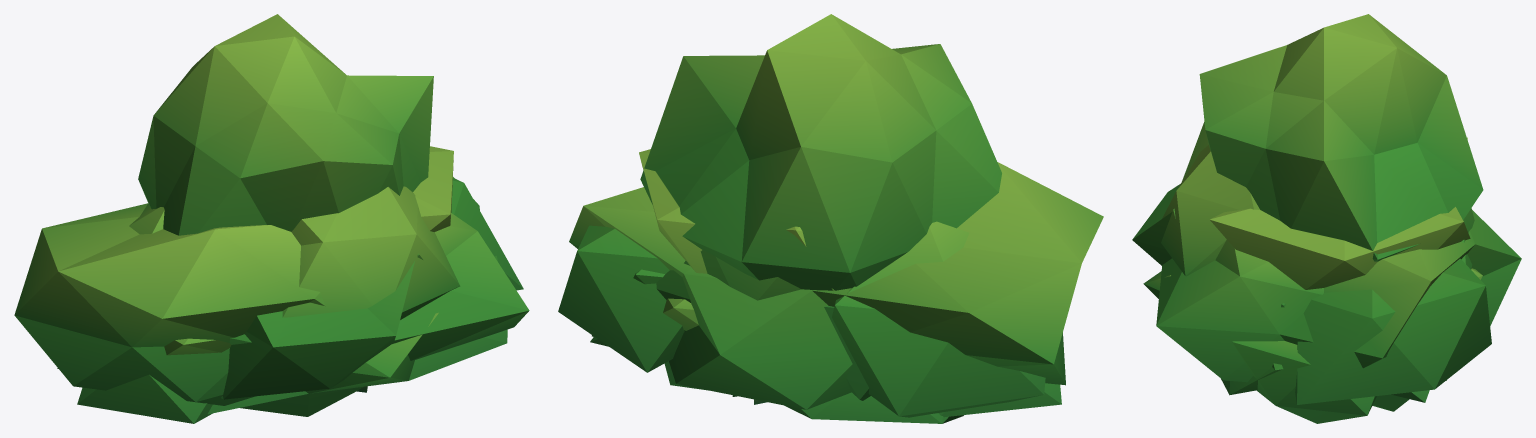
The model's file is Map_Buesche.fbx.
3 renders of one model, left to right at view 1: azimuth 30°, elevation 25°; view 2: azimuth 150°, elevation 25°; view 3: azimuth 270°, elevation 25°, orthographic. The views are drawn at different scales.
Visible parts, largest first — view 1: Map_Busch_C, Map_Busch_D, Map_Busch_B, Map_Busch_E, Map_RimBusch_A, Map_RimBusch_B; view 2: Map_Busch_D, Map_Busch_C, Map_Busch_B, Map_RimBusch_A, Map_Busch_E, Map_RimBusch_B; view 3: Map_Busch_D, Map_Busch_C, Map_Busch_B, Map_RimBusch_B, Map_Busch_E, Map_RimBusch_A.
Part boxes in pixels (x1,y1,x2,y2): Map_Busch_C: (14, 146, 529, 416); Map_Busch_D: (138, 14, 433, 235); Map_Busch_B: (57, 178, 523, 368); Map_Busch_E: (221, 261, 414, 399); Map_RimBusch_A: (164, 312, 507, 414); Map_RimBusch_B: (77, 256, 497, 423); Map_Busch_D: (640, 14, 1001, 400); Map_Busch_C: (569, 149, 1103, 409); Map_Busch_B: (558, 221, 1045, 417); Map_RimBusch_A: (590, 298, 963, 423); Map_Busch_E: (656, 250, 801, 331); Map_RimBusch_B: (938, 383, 1061, 417); Map_Busch_D: (1199, 14, 1483, 261); Map_Busch_C: (1156, 122, 1521, 411); Map_Busch_B: (1161, 137, 1491, 404); Map_RimBusch_B: (1232, 341, 1376, 423); Map_Busch_E: (1132, 184, 1474, 307); Map_RimBusch_A: (1143, 268, 1482, 402).
Size of the model in its own units: 7.3 by 5.62 by 5.66.
